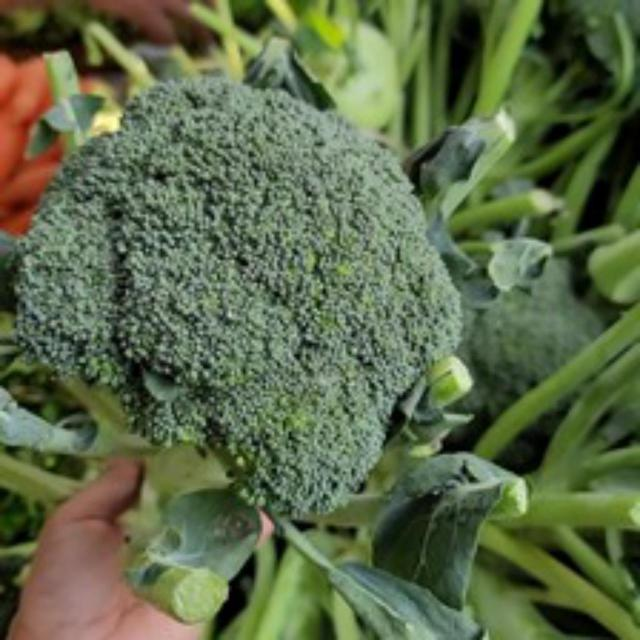broccoli: (9, 59, 468, 556)
